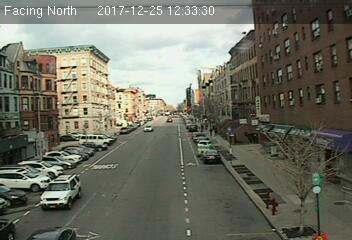car: (39, 174, 83, 209), (200, 149, 220, 163)
